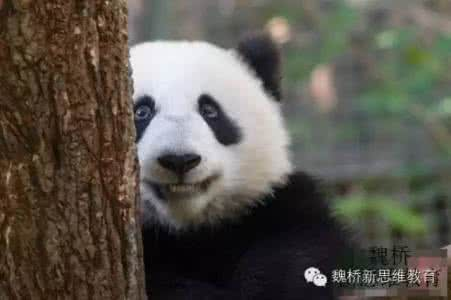panda: (131, 24, 343, 300)
